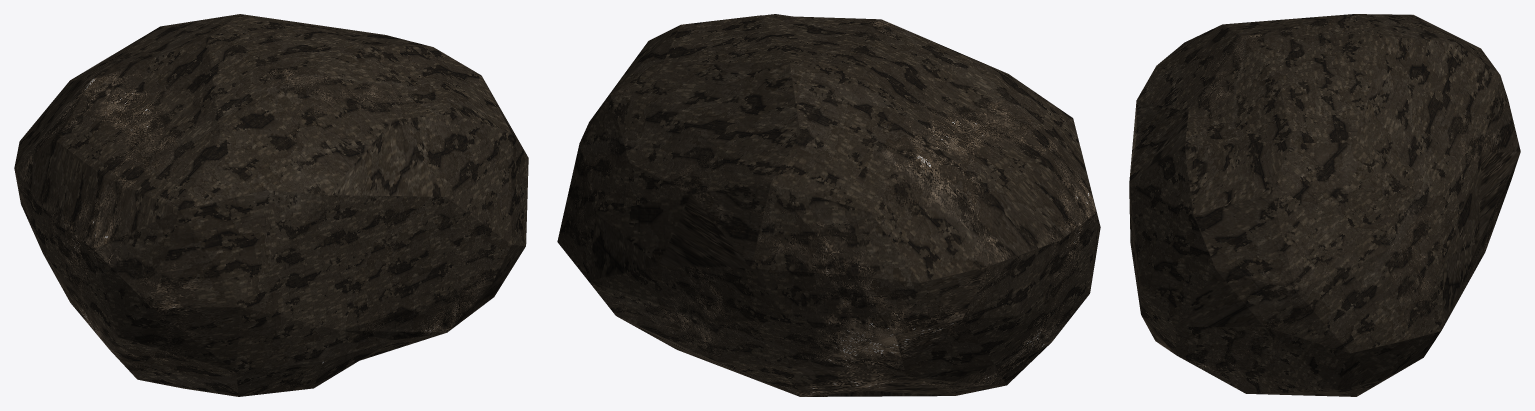
Rendered from fireball.fbx.
3 views of the same model, side by side, from view 1: azimuth 30°, elevation 25°; view 2: azimuth 150°, elevation 25°; view 3: azimuth 270°, elevation 25° (orthographic). The views are drawn at different scales.
Parts seen in each view (by area): view 1: Fireball; view 2: Fireball; view 3: Fireball.
Boxes of the visible parts, x1=… form: Fireball: x1=14, y1=14, x2=528, y2=396; Fireball: x1=557, y1=14, x2=1100, y2=396; Fireball: x1=1129, y1=14, x2=1520, y2=396.
Size of the model in its own units: 308 by 208 by 234.
1 material, 1 textured.
